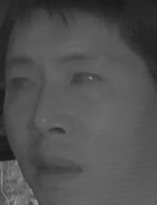eye: (68, 68, 104, 89), (6, 73, 38, 96)
mouth: (28, 149, 88, 184)
